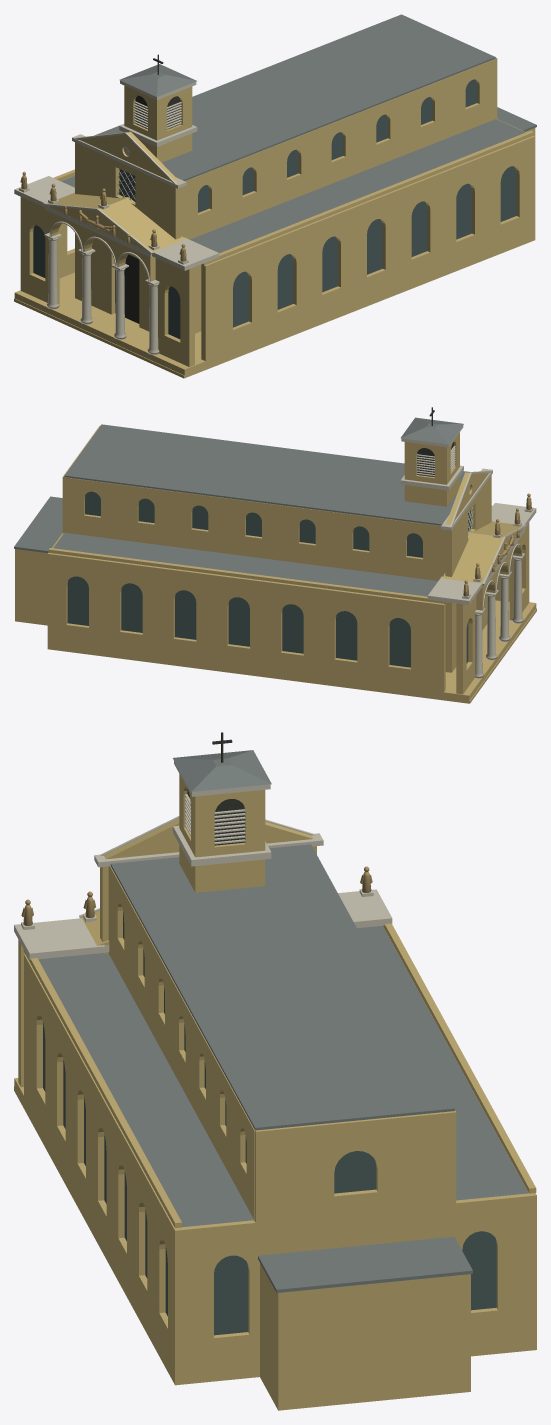
File: cathedrale-saint-denis-reunion-near.glb
The picture shows the model from 3 angles, top to bottom: view 1: azimuth 30°, elevation 25°; view 2: azimuth 150°, elevation 25°; view 3: azimuth 270°, elevation 25°; orthographic projection. The views are drawn at different scales.
Parts seen in each view (by area): view 1: cathedrale-saint-denis-reunion-0-plaster, cathedrale-saint-denis-reunion-0-roof, cathedrale-saint-denis-reunion-0-glass, cathedrale-saint-denis-reunion-0-trim, cathedrale-saint-denis-reunion-0-shadow, cathedrale-saint-denis-reunion-0-relief; view 2: cathedrale-saint-denis-reunion-0-plaster, cathedrale-saint-denis-reunion-0-roof, cathedrale-saint-denis-reunion-0-glass, cathedrale-saint-denis-reunion-0-trim, cathedrale-saint-denis-reunion-0-relief, cathedrale-saint-denis-reunion-0-shadow; view 3: cathedrale-saint-denis-reunion-0-plaster, cathedrale-saint-denis-reunion-0-roof, cathedrale-saint-denis-reunion-0-trim, cathedrale-saint-denis-reunion-0-glass, cathedrale-saint-denis-reunion-0-shadow.
Part boxes in pixels (x1,y1,x2,y2): cathedrale-saint-denis-reunion-0-plaster: [14, 57, 535, 378]; cathedrale-saint-denis-reunion-0-roof: [61, 14, 536, 253]; cathedrale-saint-denis-reunion-0-glass: [33, 79, 516, 339]; cathedrale-saint-denis-reunion-0-trim: [14, 80, 219, 354]; cathedrale-saint-denis-reunion-0-shadow: [115, 54, 180, 323]; cathedrale-saint-denis-reunion-0-relief: [20, 148, 186, 261]; cathedrale-saint-denis-reunion-0-plaster: [15, 425, 536, 703]; cathedrale-saint-denis-reunion-0-roof: [14, 417, 468, 596]; cathedrale-saint-denis-reunion-0-glass: [67, 491, 471, 667]; cathedrale-saint-denis-reunion-0-trim: [400, 425, 536, 678]; cathedrale-saint-denis-reunion-0-relief: [463, 486, 531, 596]; cathedrale-saint-denis-reunion-0-shadow: [417, 407, 453, 477]; cathedrale-saint-denis-reunion-0-plaster: [14, 774, 536, 1410]; cathedrale-saint-denis-reunion-0-roof: [38, 750, 528, 1292]; cathedrale-saint-denis-reunion-0-trim: [14, 761, 392, 959]; cathedrale-saint-denis-reunion-0-glass: [43, 912, 496, 1335]; cathedrale-saint-denis-reunion-0-shadow: [187, 732, 244, 845].
Bounding box in the file's own units: 52.83 × 27 × 32.81.
